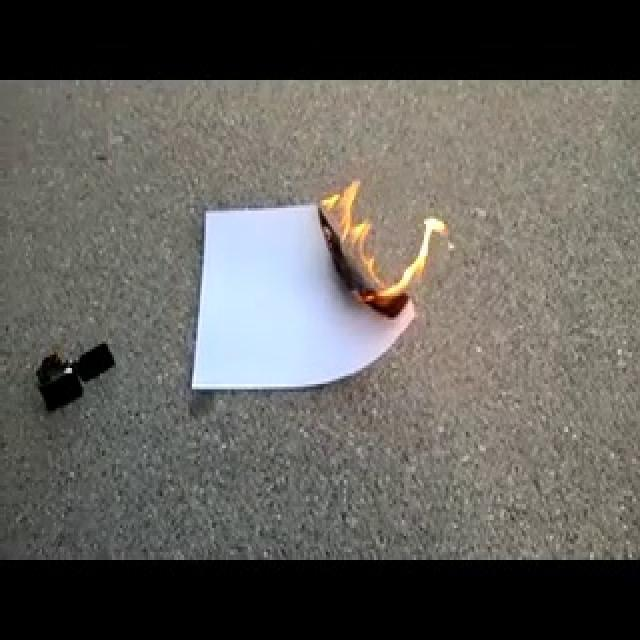fire: (316, 168, 438, 318)
